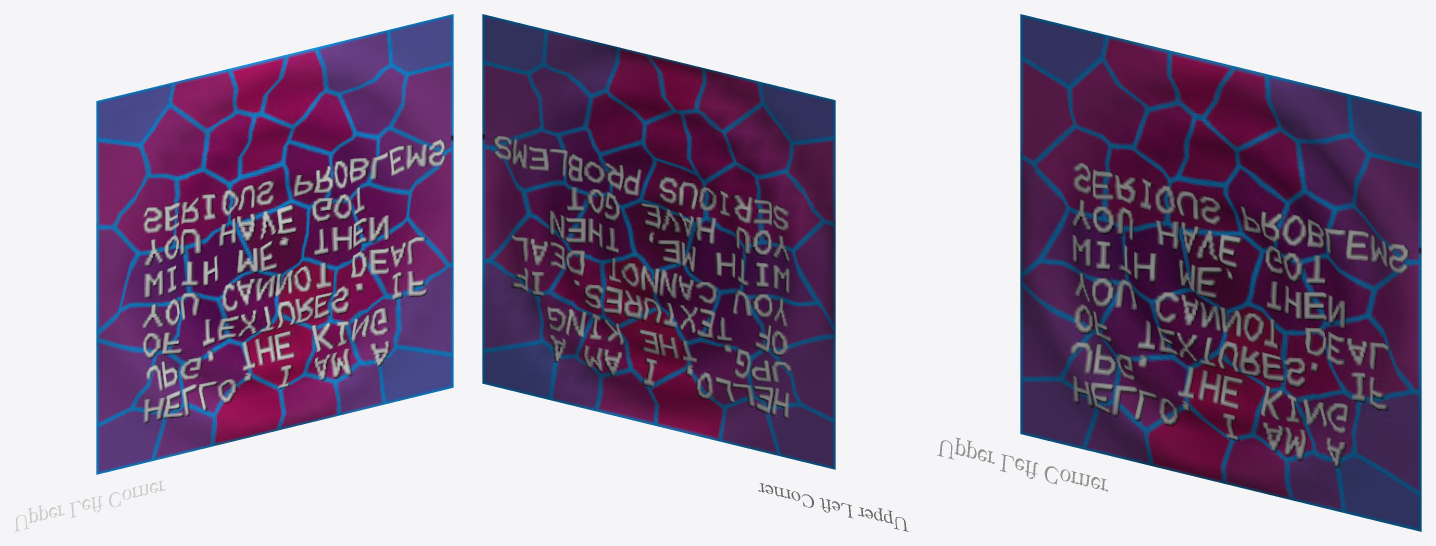
File: simple_010_TextureFormats-JPG_01.dae
3 renders of one model, left to right at view 1: azimuth 30°, elevation 25°; view 2: azimuth 150°, elevation 25°; view 3: azimuth 330°, elevation 25°, orthographic. The views are drawn at different scales.
Parts seen in each view (by area): view 1: pPlane1; view 2: pPlane1; view 3: pPlane1.
Part boxes in pixels (x1=…): pPlane1: x1=96, y1=14, x2=453, y2=474; pPlane1: x1=482, y1=14, x2=835, y2=469; pPlane1: x1=1020, y1=14, x2=1421, y2=531.
Bounding box in the file's own units: 18.83 × 0.7106 × 17.17.
